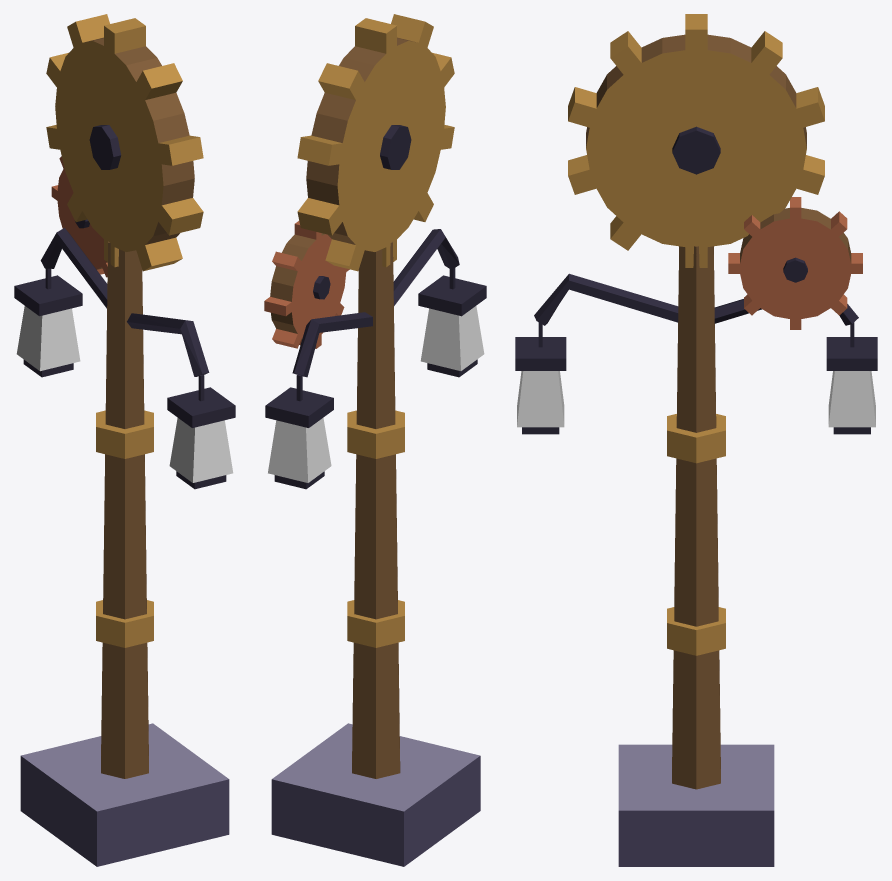
File: Fair_GearPost.fbx
The picture shows the model from 3 angles, left to right: view 1: azimuth 30°, elevation 25°; view 2: azimuth 150°, elevation 25°; view 3: azimuth 270°, elevation 25°; orthographic projection.
Parts seen in each view (by area): view 1: Fair_GearPost; view 2: Fair_GearPost; view 3: Fair_GearPost.
Boxes of the visible parts, x1,y1,x2,y2 form: Fair_GearPost: (14,14,235,866); Fair_GearPost: (264,14,486,866); Fair_GearPost: (515,14,877,866).
Size of what is drawn, in the model's own units: 1.1 by 6.33 by 2.56.
2 materials, 1 textured.
